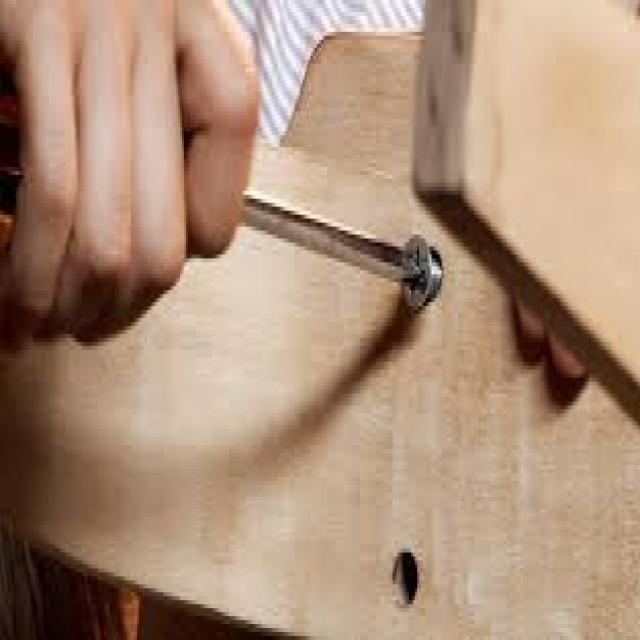screwdriver: (0, 131, 427, 286)
